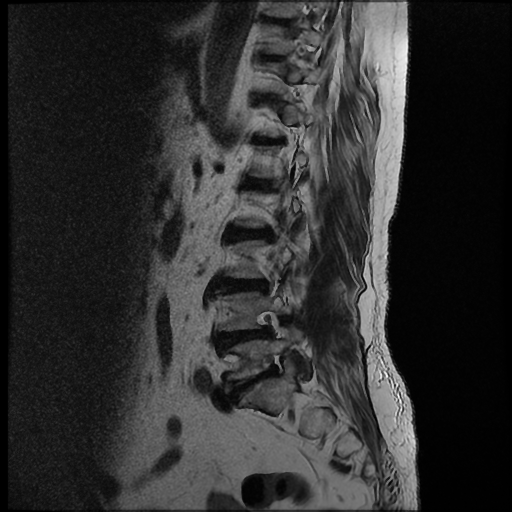LFS1: (249, 301, 291, 347)
